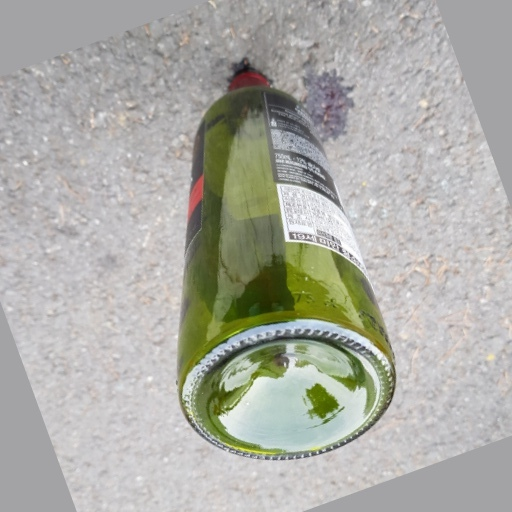Glass_2: (176, 69, 399, 462)
